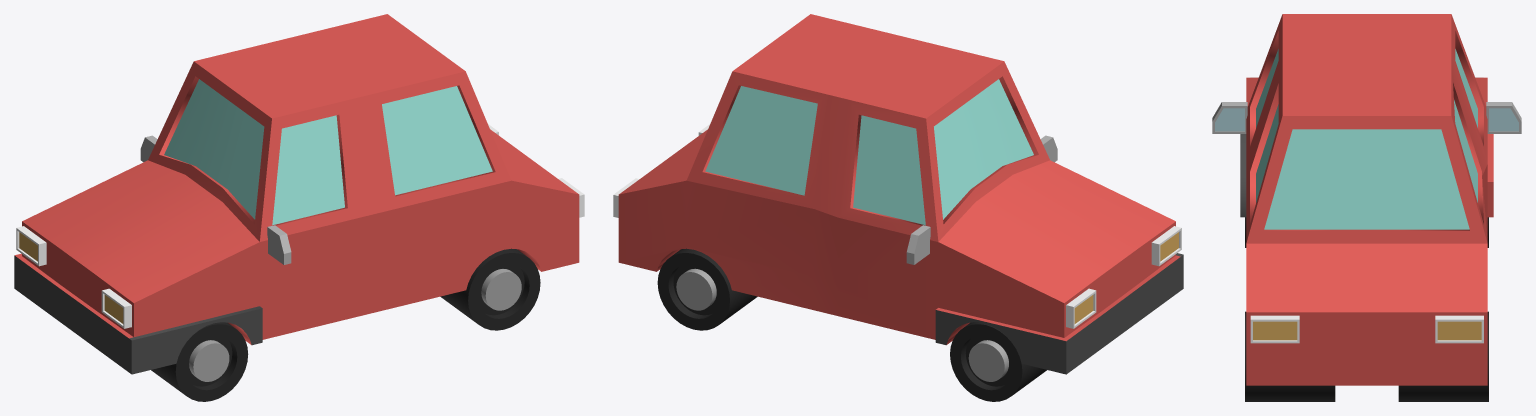
File: car.fbx
The picture shows the model from 3 angles, left to right: view 1: azimuth 30°, elevation 25°; view 2: azimuth 150°, elevation 25°; view 3: azimuth 270°, elevation 25°; orthographic projection. The views are drawn at different scales.
Visible parts, largest first — view 1: Car, Cylinder.014, Cube.007, Cube.001; view 2: Car, Cylinder.014, Cube.007, Cube.001; view 3: Car, Cylinder.014, Cube.007, Cube.001.
Part boxes in pixels (<box>): Car: <box>14,14,579,374</box>; Cylinder.014: <box>151,248,540,401</box>; Cube.007: <box>16,124,584,328</box>; Cube.001: <box>140,135,291,264</box>; Car: <box>618,14,1183,374</box>; Cylinder.014: <box>657,248,1046,401</box>; Cube.007: <box>613,124,1181,328</box>; Cube.001: <box>906,135,1057,264</box>; Car: <box>1240,14,1493,385</box>; Cylinder.014: <box>1245,217,1488,401</box>; Cube.007: <box>1250,77,1483,343</box>; Cube.001: <box>1212,102,1521,133</box>.
Bounding box in the file's own units: 379 × 197 × 204.
